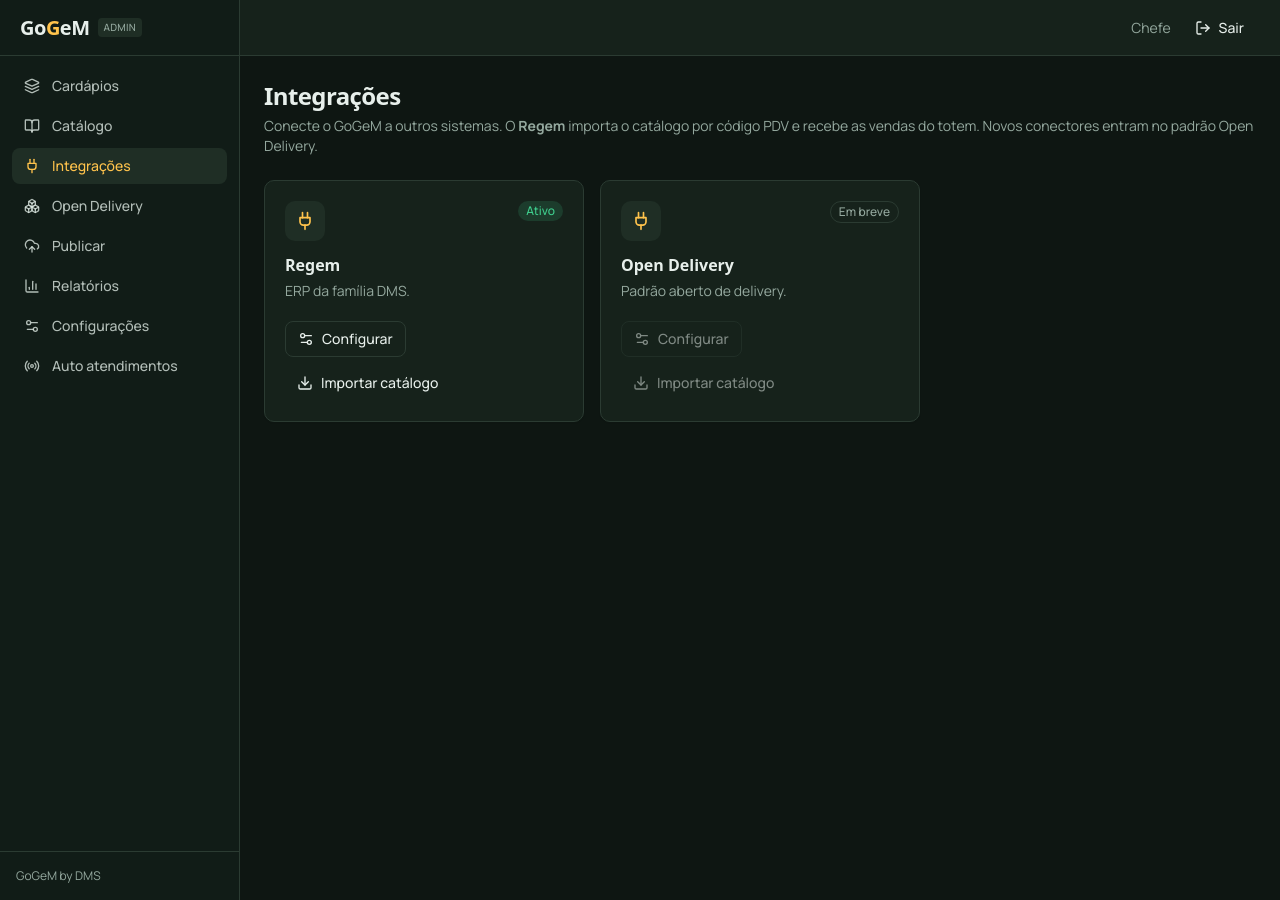
Test: Integrações › importa o catálogo pelo conector Regem e mostra o resumo
Click the button "Importar catálogo" below "ERP da família DMS." at (368,383), box [285, 365, 450, 401]
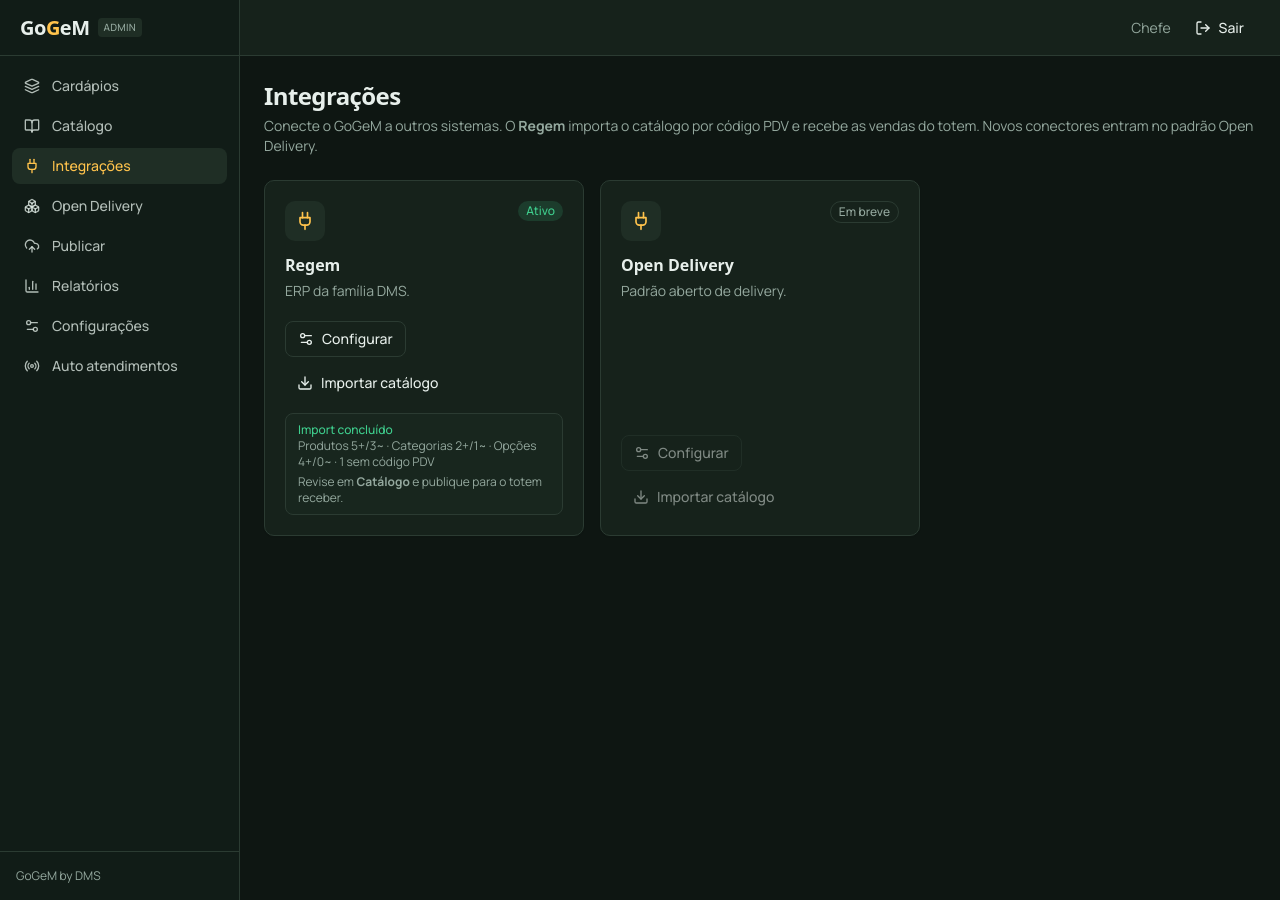
Result: the text "Import concluído" is shown at [298, 421, 393, 438]
Result: the text "5+/3~" is shown at [298, 438, 550, 470]
